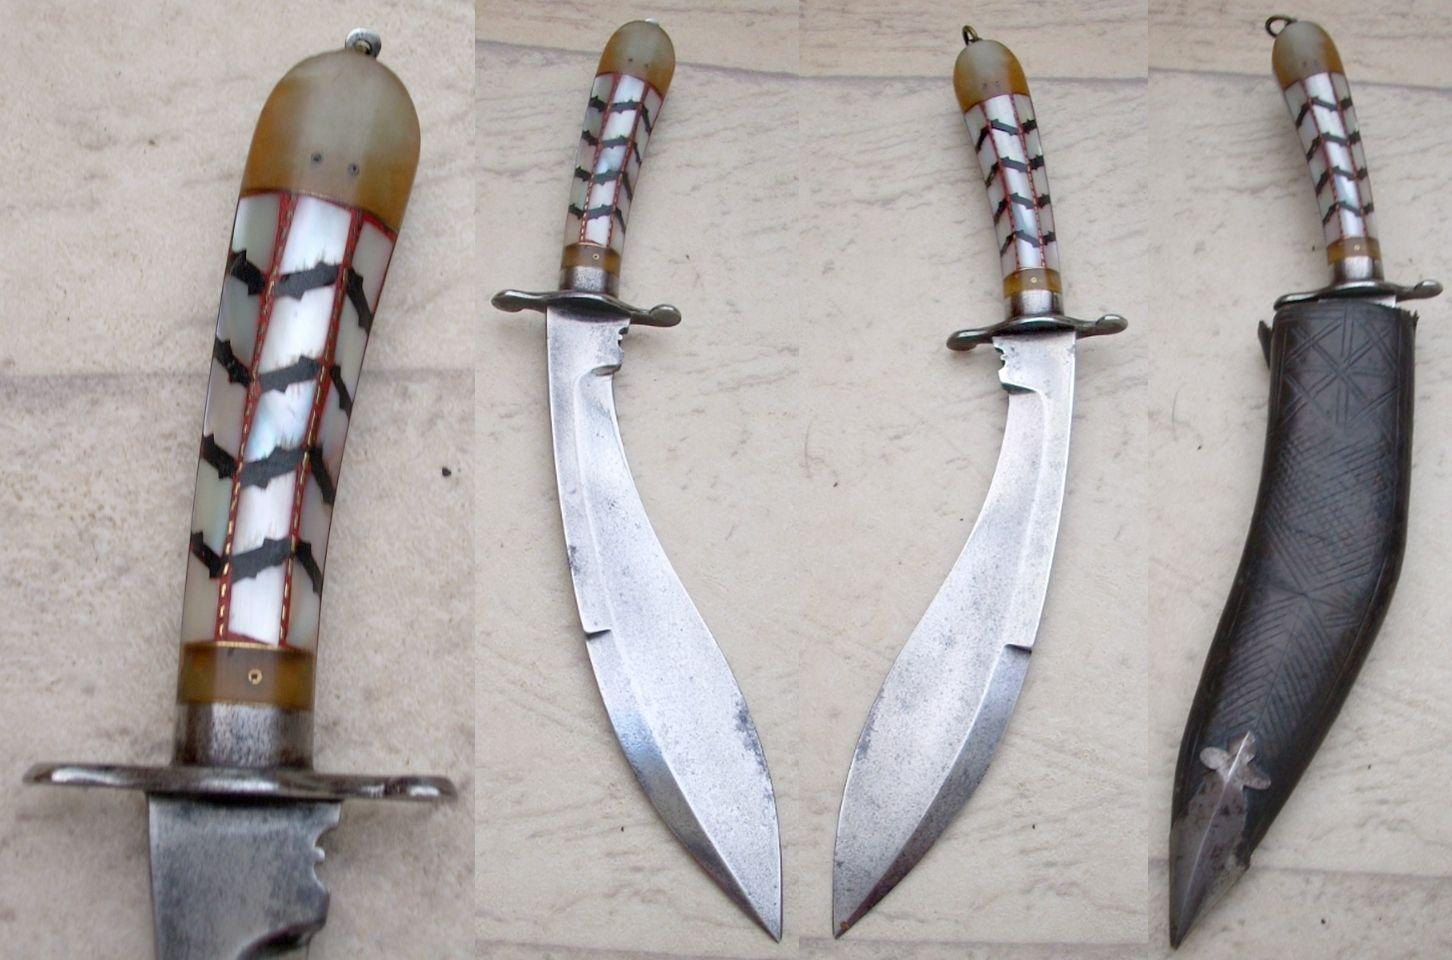facao: (829, 26, 1126, 936), (492, 20, 781, 937)
